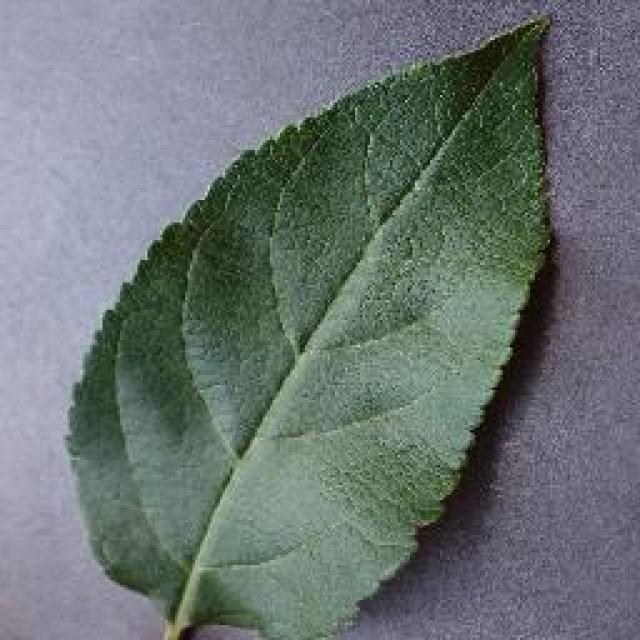apple healthy: (60, 10, 558, 638)
